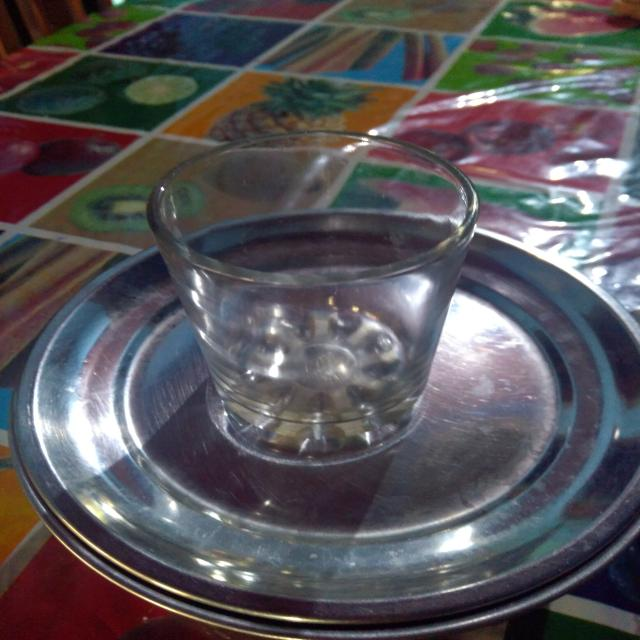Glass: (140, 125, 485, 470)
